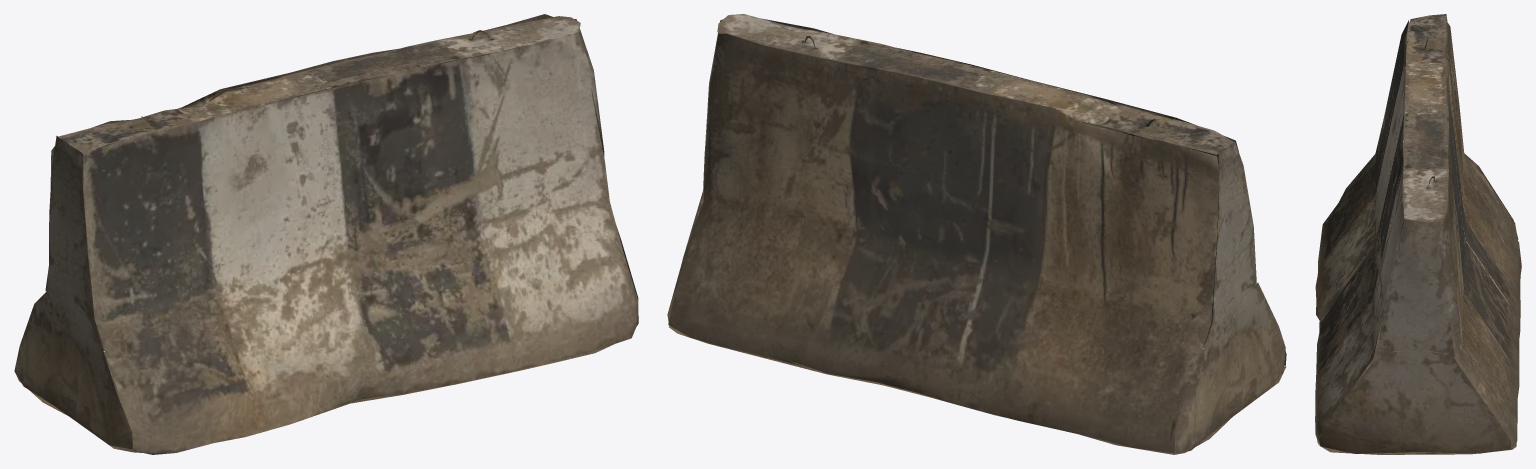
File: concrete_road_barrier.glb
3 views of the same model, side by side, from view 1: azimuth 30°, elevation 25°; view 2: azimuth 150°, elevation 25°; view 3: azimuth 270°, elevation 25° (orthographic). The views are drawn at different scales.
Parts seen in each view (by area): view 1: concrete_road_barrier; view 2: concrete_road_barrier; view 3: concrete_road_barrier.
Boxes of the visible parts, <box> form: concrete_road_barrier: <box>14,14,638,454</box>; concrete_road_barrier: <box>667,14,1286,454</box>; concrete_road_barrier: <box>1315,14,1521,454</box>.
Bounding box in the file's own units: 1.54 × 0.8252 × 0.6356.
1 material, 1 textured.
